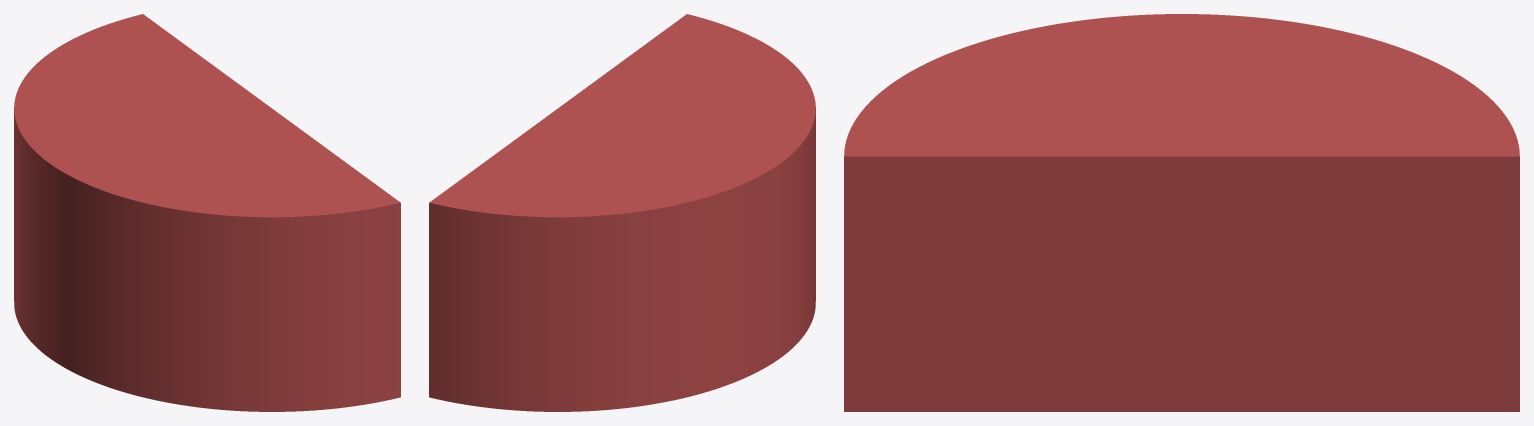
The model's file is magnet_n.glb.
3 renders of one model, left to right at view 1: azimuth 30°, elevation 25°; view 2: azimuth 150°, elevation 25°; view 3: azimuth 270°, elevation 25°, orthographic. The views are drawn at different scales.
Parts seen in each view (by area): view 1: geometry_0; view 2: geometry_0; view 3: geometry_0.
Part boxes in pixels (bbox=[...]): geometry_0: bbox=[14, 14, 400, 411]; geometry_0: bbox=[429, 14, 815, 411]; geometry_0: bbox=[844, 14, 1519, 411].
Bounding box in the file's own units: 3 × 2.5 × 6.
